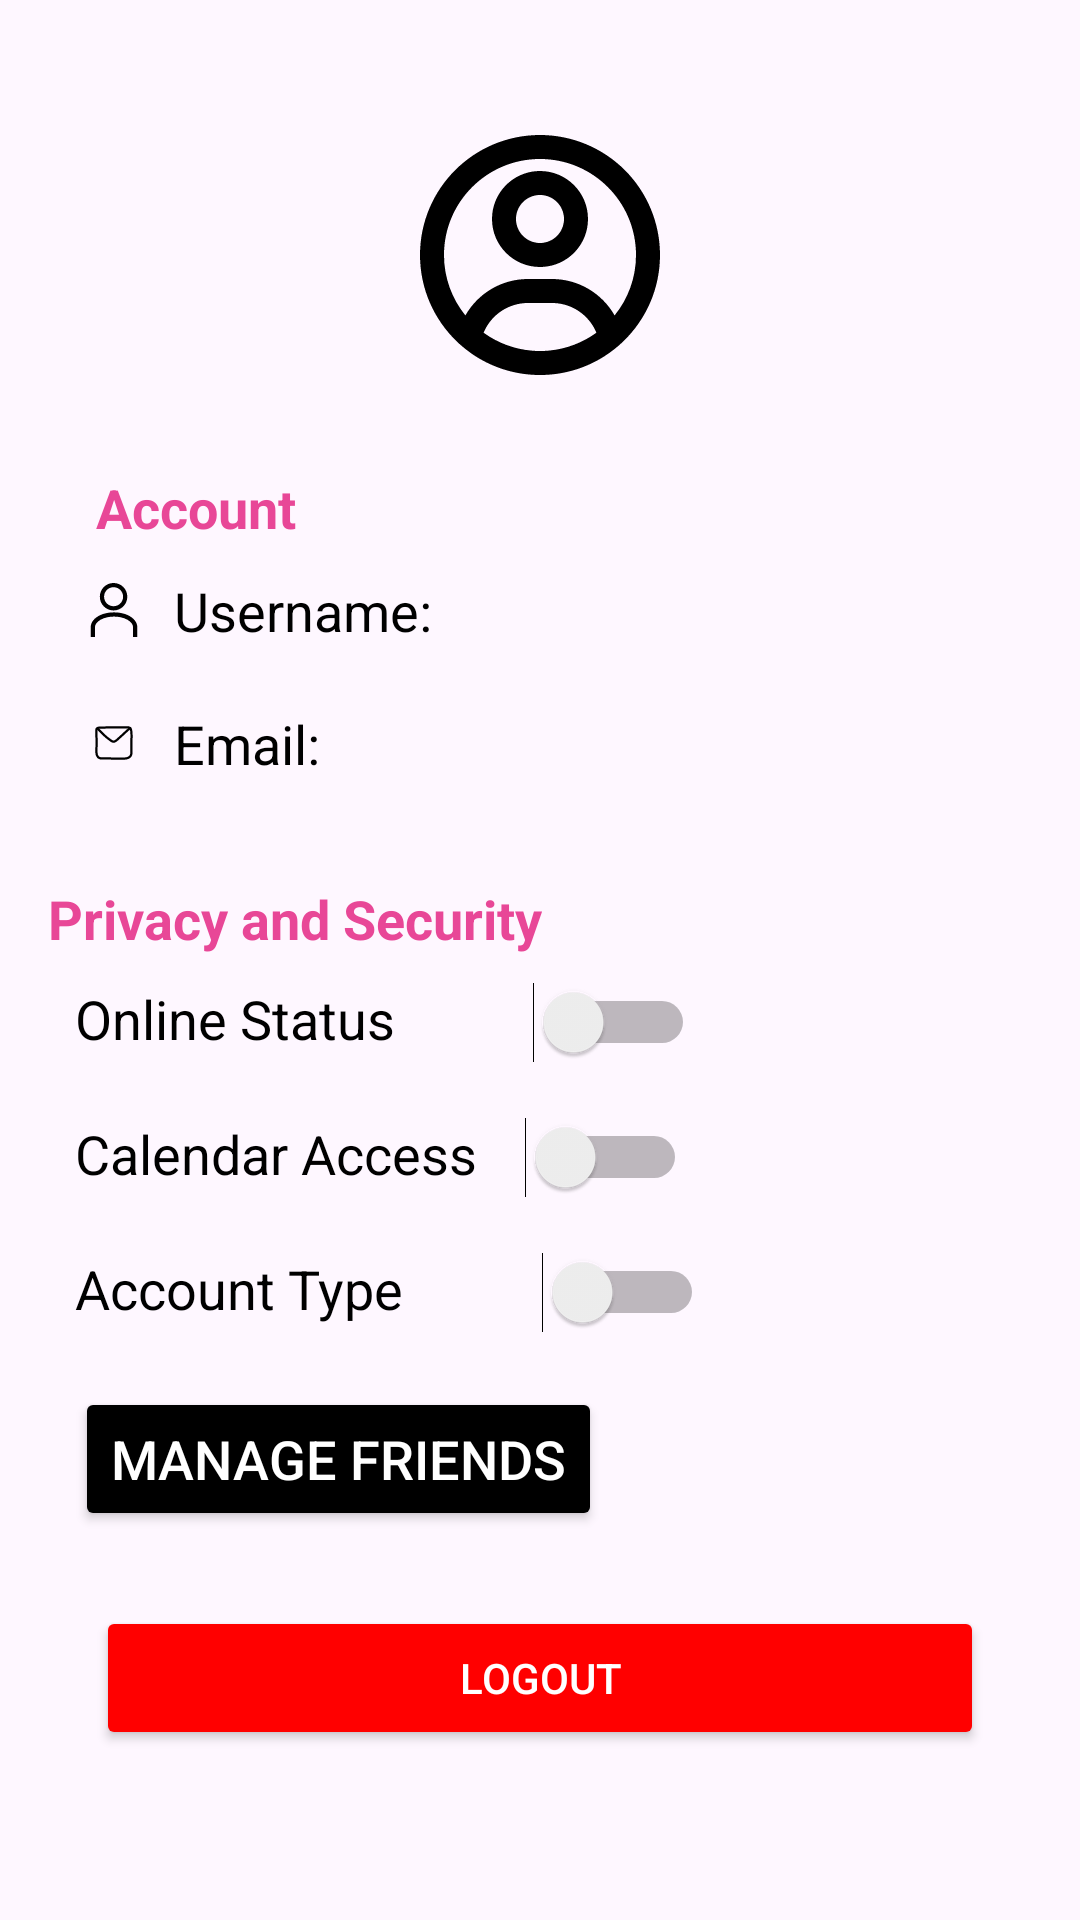

Named icons in this screenshot (1080×1920) and their centers, (x,y):
envelope: (114,743)
user profile svgicon: (540,255)
